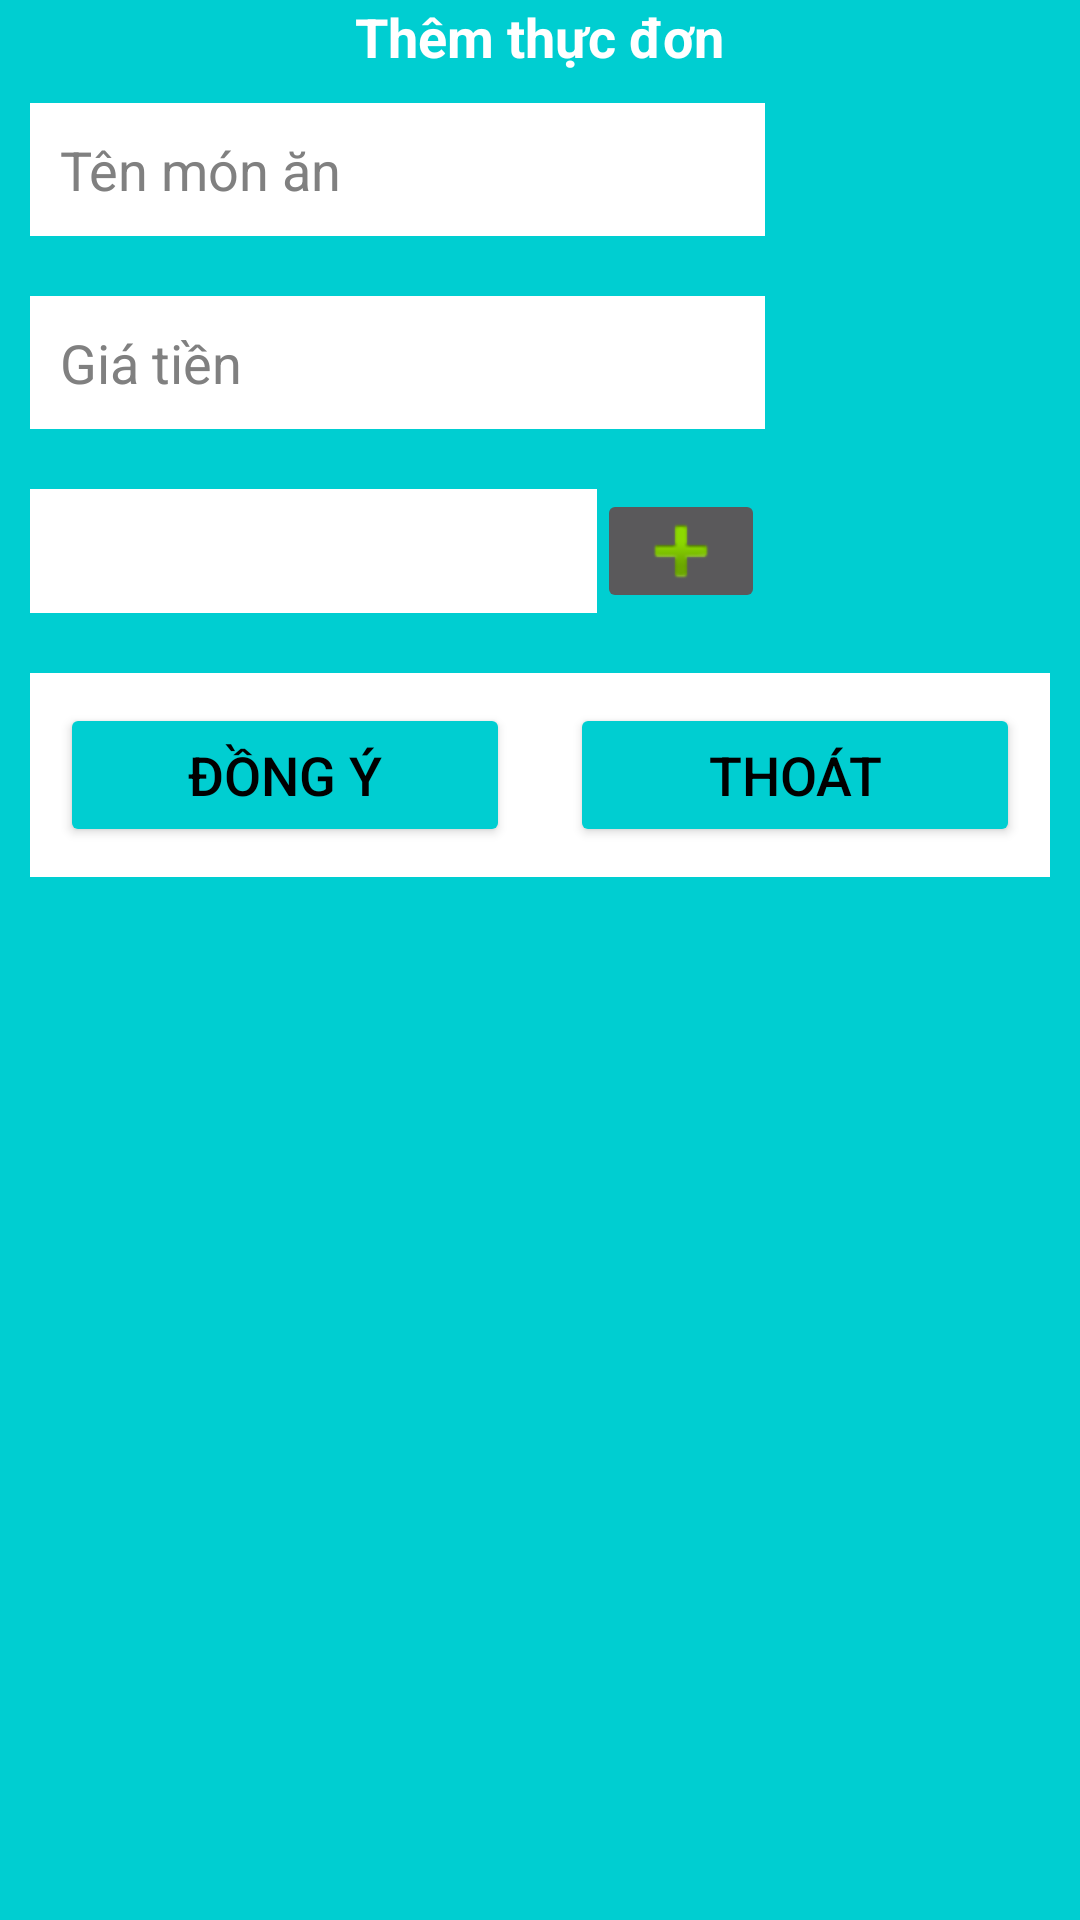

Icons on this 1080×1920 Android screen, each with the point to tap as [x,y]:
add: [681,551]
